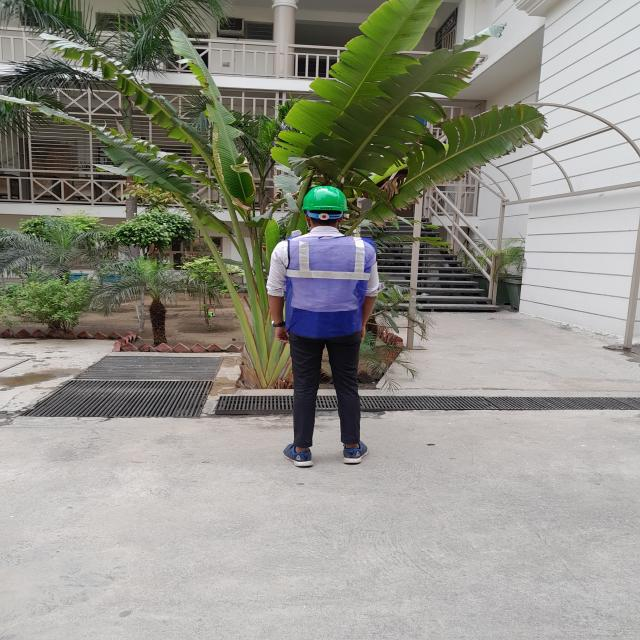safe: (268, 187, 379, 466)
